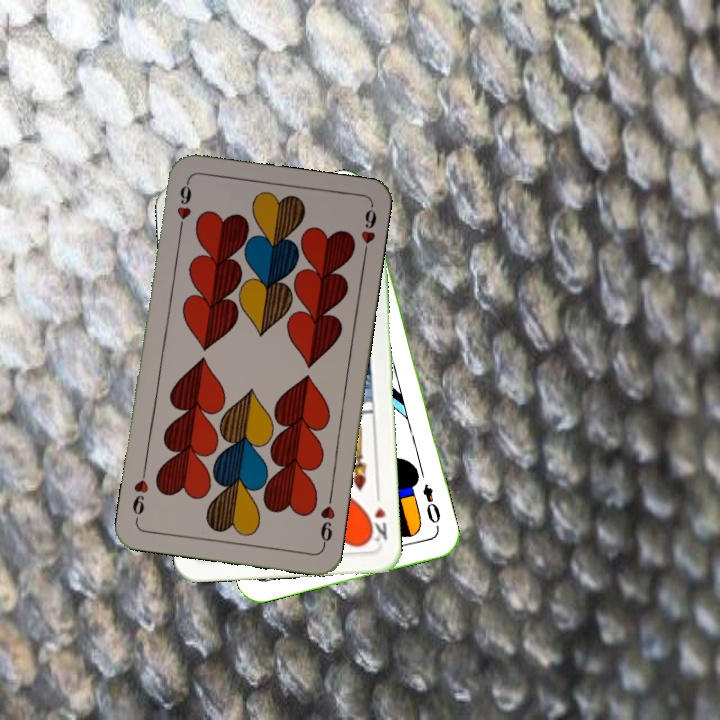EO: (419, 479, 444, 526)
H9: (316, 491, 338, 550), (173, 178, 194, 237)
HK: (364, 488, 390, 544)
